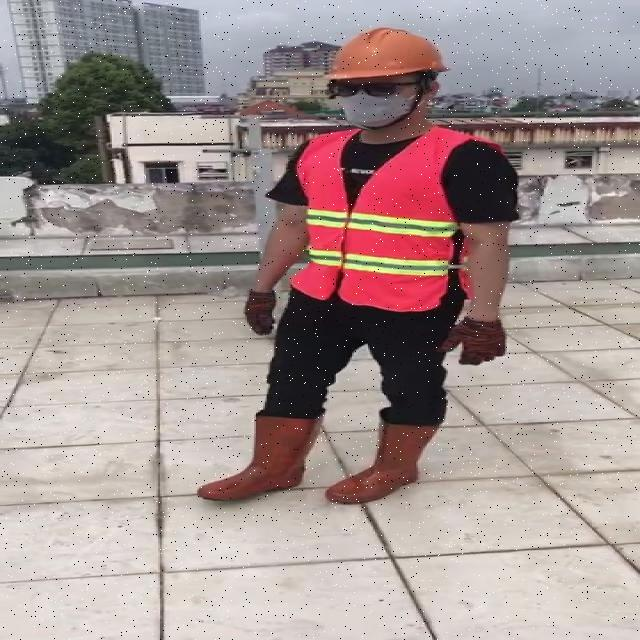Hard_hat: (317, 21, 454, 91)
Vest: (297, 124, 461, 315)
